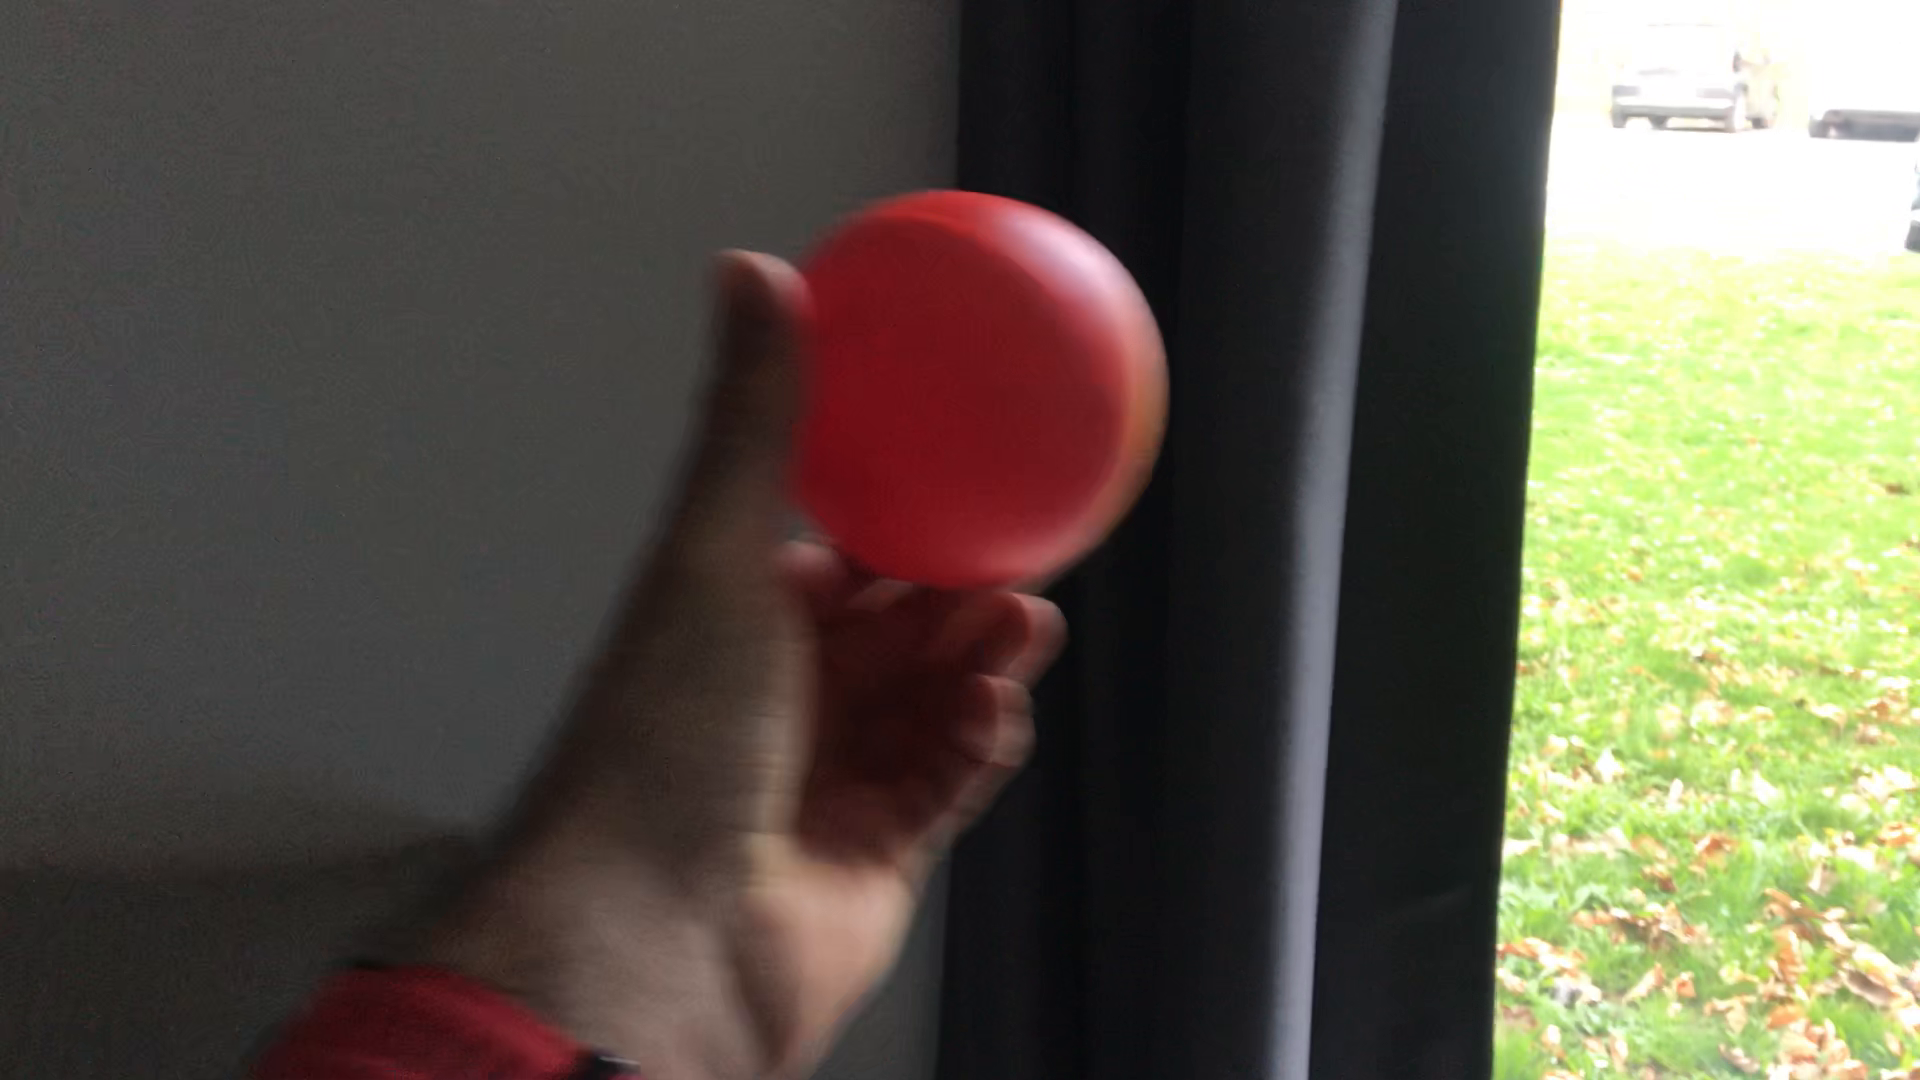Ball: (771, 187, 1172, 583)
